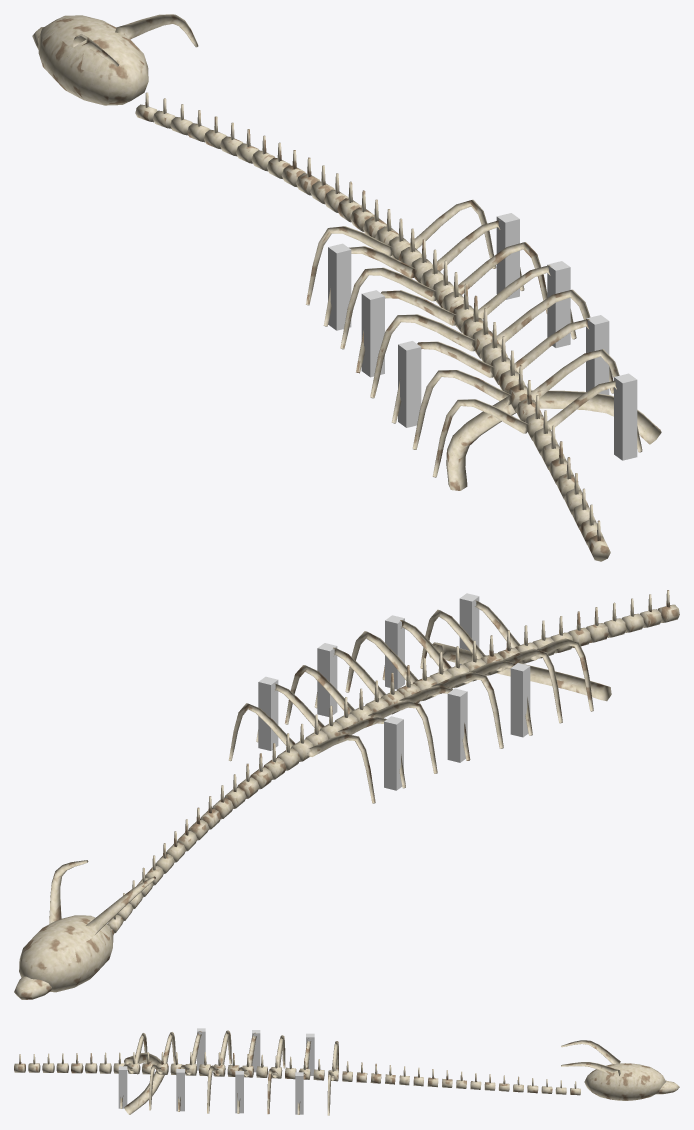
File: dragon_bones.glb
3 views of the same model, one above another, from view 1: azimuth 30°, elevation 25°; view 2: azimuth 150°, elevation 25°; view 3: azimuth 270°, elevation 25° (orthographic). The views are drawn at different scales.
Visible parts, largest first — view 1: Skeleton, Rib-convcolonly.001, Rib-convcolonly.002, Rib-convcolonly.006, Rib-convcolonly.004, Rib-convcolonly.007, Rib-convcolonly.005, Rib-convcolonly.003; view 2: Skeleton, Rib-convcolonly.004, Rib-convcolonly.002, Rib-convcolonly.006, Rib-convcolonly.007, Rib-convcolonly.005, Rib-convcolonly.003, Rib-convcolonly.001; view 3: Skeleton, Rib-convcolonly.001, Rib-convcolonly.007, Rib-convcolonly.005, Rib-convcolonly.003, Rib-convcolonly.002, Rib-convcolonly.004, Rib-convcolonly.006.
Boxes of the visible parts, bbox=[...] form: Skeleton: bbox=[32, 14, 661, 561]; Rib-convcolonly.001: bbox=[614, 373, 637, 460]; Rib-convcolonly.002: bbox=[398, 341, 421, 427]; Rib-convcolonly.006: bbox=[328, 243, 351, 330]; Rib-convcolonly.004: bbox=[361, 290, 384, 377]; Rib-convcolonly.007: bbox=[496, 213, 519, 299]; Rib-convcolonly.005: bbox=[547, 261, 570, 347]; Rib-convcolonly.003: bbox=[586, 315, 609, 394]; Skeleton: bbox=[14, 590, 679, 999]; Rib-convcolonly.004: bbox=[447, 688, 467, 762]; Rib-convcolonly.002: bbox=[510, 663, 530, 737]; Rib-convcolonly.006: bbox=[384, 716, 403, 790]; Rib-convcolonly.007: bbox=[258, 676, 278, 750]; Rib-convcolonly.005: bbox=[317, 643, 337, 716]; Rib-convcolonly.003: bbox=[385, 615, 404, 689]; Rib-convcolonly.001: bbox=[459, 593, 479, 664]; Skeleton: bbox=[14, 1030, 679, 1115]; Rib-convcolonly.001: bbox=[118, 1066, 127, 1108]; Rib-convcolonly.007: bbox=[295, 1072, 303, 1114]; Rib-convcolonly.005: bbox=[235, 1071, 243, 1113]; Rib-convcolonly.003: bbox=[176, 1069, 184, 1111]; Rib-convcolonly.002: bbox=[197, 1028, 205, 1070]; Rib-convcolonly.004: bbox=[252, 1030, 260, 1072]; Rib-convcolonly.006: bbox=[306, 1033, 314, 1075].
Size of what is drawn, in the model's own units: 10.06 by 3.75 by 46.77.
1 material, 1 textured.
